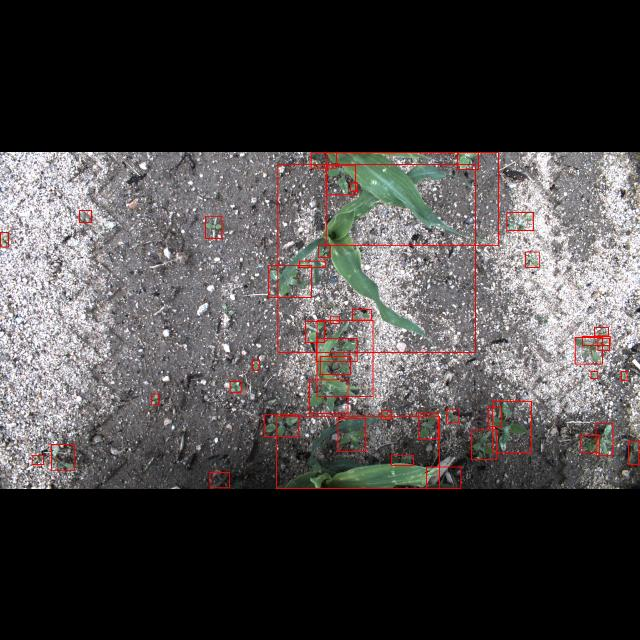crop: (278, 164, 476, 352), (326, 152, 498, 245), (276, 416, 439, 488), (317, 320, 373, 396), (426, 466, 462, 488)
weed: (492, 400, 532, 452), (268, 265, 312, 297), (308, 379, 348, 413), (316, 337, 358, 361), (338, 418, 366, 452), (326, 164, 356, 193), (264, 414, 298, 436), (576, 336, 602, 364), (472, 429, 496, 459), (52, 444, 74, 470), (596, 422, 612, 456), (320, 356, 350, 374), (418, 413, 438, 439), (507, 211, 533, 229), (312, 151, 336, 167), (306, 321, 324, 342), (206, 215, 222, 237), (210, 472, 230, 488), (458, 152, 478, 168), (580, 436, 600, 452), (488, 406, 502, 426), (391, 454, 413, 466), (352, 308, 372, 320), (582, 336, 610, 344), (629, 442, 639, 464), (525, 252, 539, 266), (298, 260, 326, 266), (446, 410, 459, 422), (79, 210, 91, 222), (318, 245, 330, 257), (598, 338, 610, 350), (594, 326, 608, 336), (230, 380, 240, 392), (32, 454, 44, 464), (0, 232, 8, 246), (382, 409, 392, 418), (252, 360, 260, 370), (330, 316, 340, 324), (350, 182, 358, 190), (590, 370, 598, 378), (152, 394, 158, 404), (621, 370, 627, 380)
